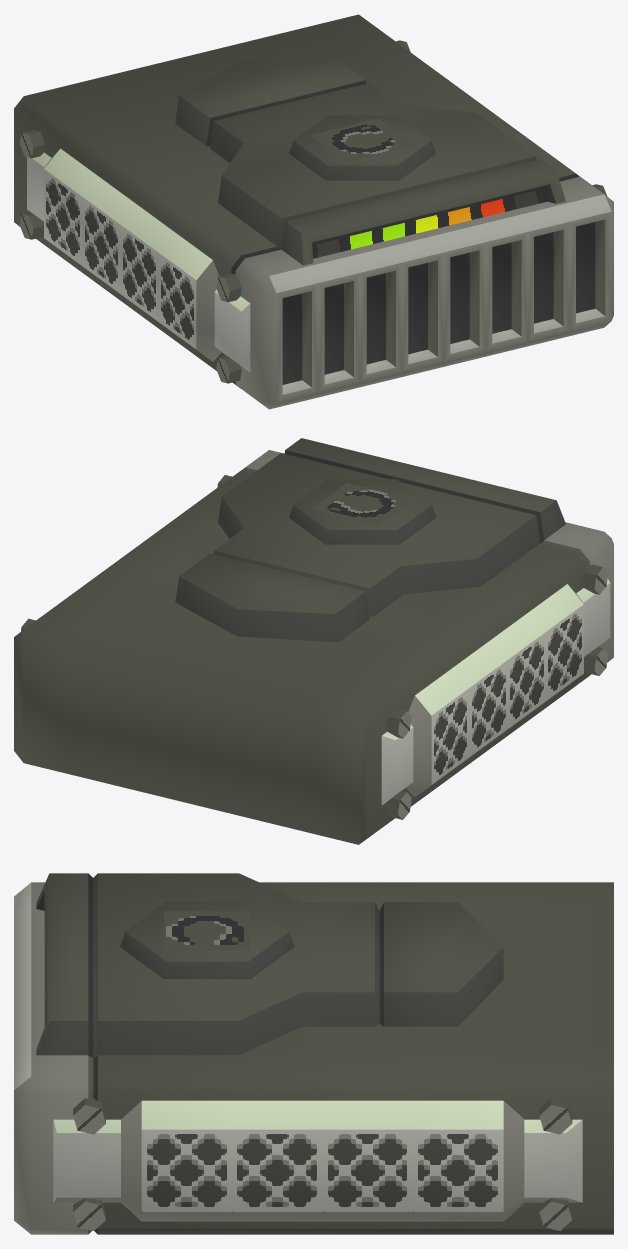
The model's file is nas.glb.
The picture shows the model from 3 angles, top to bottom: view 1: azimuth 30°, elevation 25°; view 2: azimuth 150°, elevation 25°; view 3: azimuth 270°, elevation 25°; orthographic projection. The views are drawn at different scales.
Visible parts, largest first — view 1: Plane.069, Plane.070, Plane.071, Circle.011 (×4); view 2: Plane.069, Plane.070, Plane.071, Circle.011 (×3); view 3: Plane.069, Plane.070, Plane.071, Circle.011 (×4).
Boxes of the visible parts, bbox=[...] form: Plane.069: bbox=[14, 14, 613, 409]; Plane.070: bbox=[175, 57, 565, 265]; Plane.071: bbox=[27, 148, 250, 372]; Circle.011 (×4): bbox=[19, 130, 241, 383]; Plane.069: bbox=[14, 450, 613, 844]; Plane.070: bbox=[175, 438, 565, 642]; Plane.071: bbox=[381, 578, 610, 805]; Circle.011 (×3): bbox=[386, 564, 608, 819]; Plane.069: bbox=[14, 882, 613, 1234]; Plane.070: bbox=[36, 873, 503, 1057]; Plane.071: bbox=[53, 1100, 582, 1221]; Circle.011 (×4): bbox=[73, 1098, 572, 1230].
Bounding box in the file's own units: 0.5466 × 0.2349 × 0.6178.
Materials: 1 (1 with a texture image).
